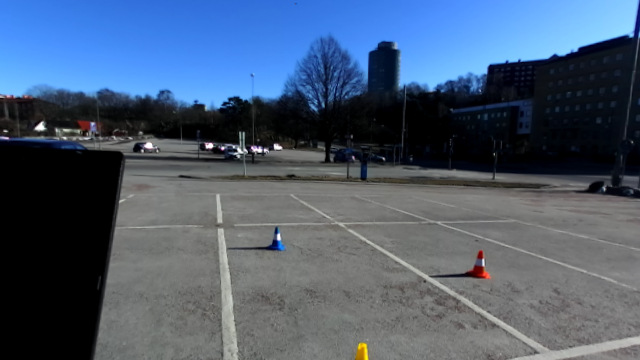blue: (266, 227, 285, 252)
orange: (464, 249, 492, 280)
